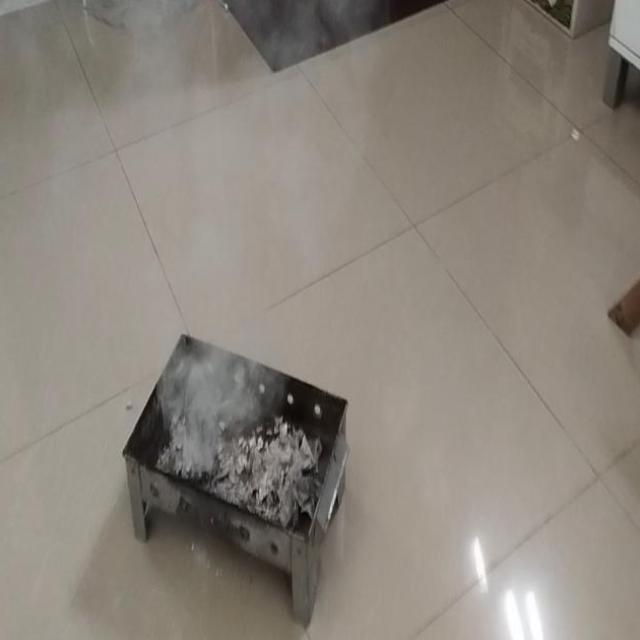fire: (157, 229, 286, 442)
